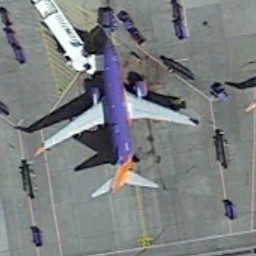Airplane: (23, 31, 203, 200)
